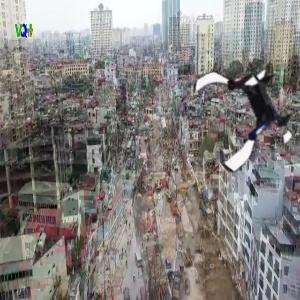drone: (187, 55, 300, 168)
